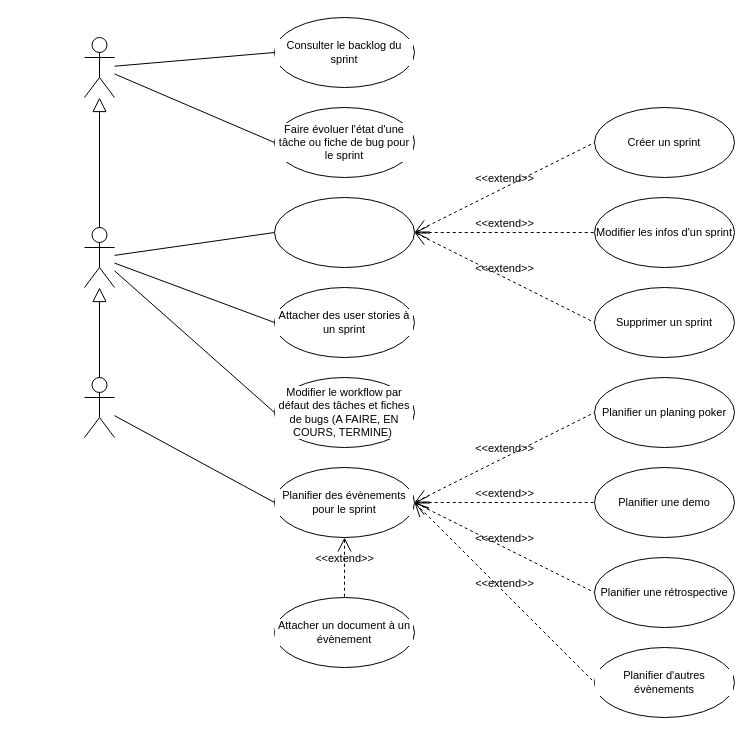
The diagram is 752 pixels wide and 735 high, and some of its shapes have lost their labels. The centre of each missing label's shape, as x and y in pixels:
"Gérer les sprints" goes at [344,232].
"Utilisateur MEMBRE" goes at [99,67].
"Utilisateur PRODUCT OWNER" goes at [99,257].
"Utilisateur SCRUM MASTER" goes at [99,407].
